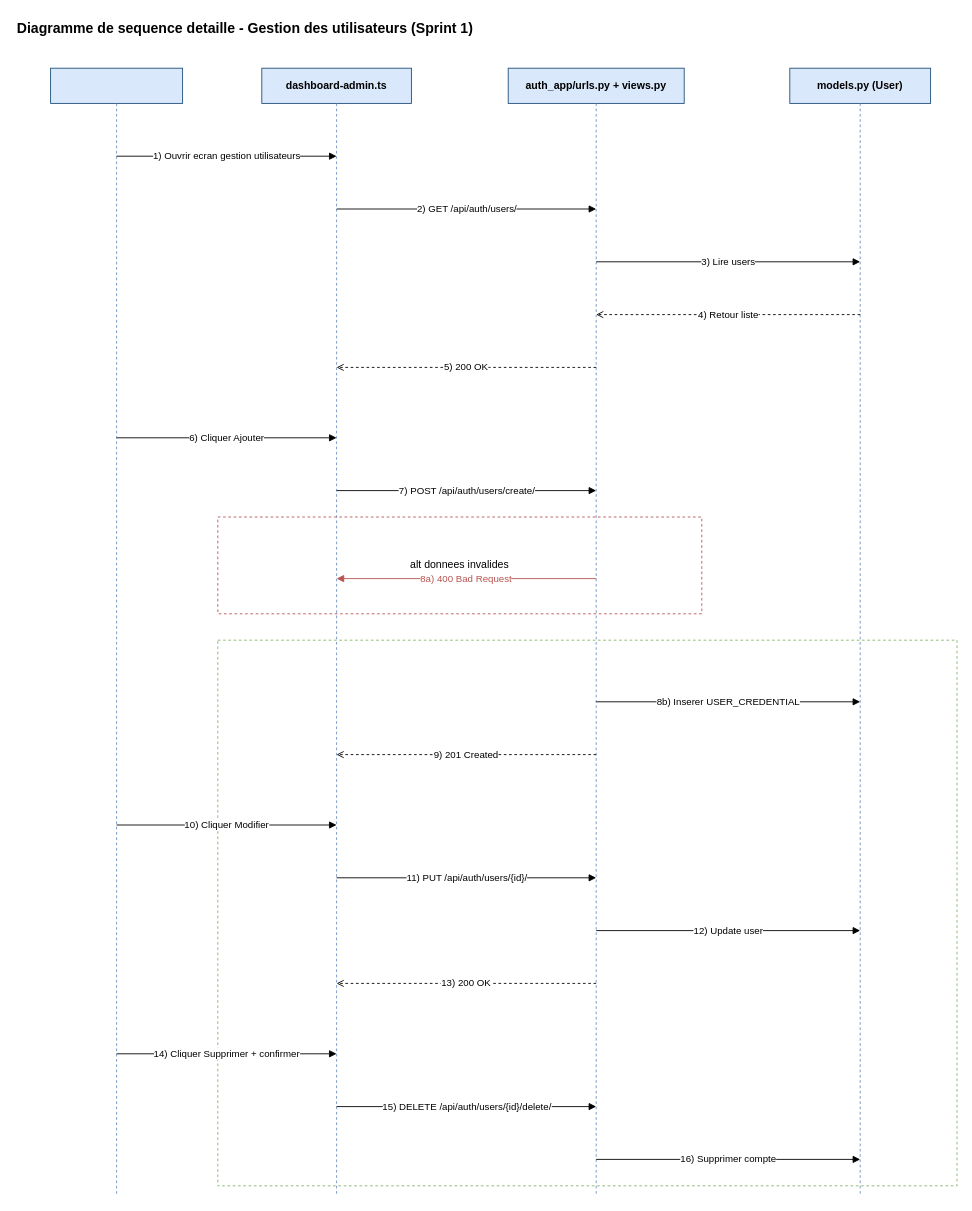
The diagram is 972 pixels wide and 1211 high, and some of its shapes have lost their labels. The shapes that lost their labels are listed below. From the top down, each one's centre as x and y in pixels, then its label:
point (116, 85): dashboard-admin.html
point (587, 912): else donnees valides
